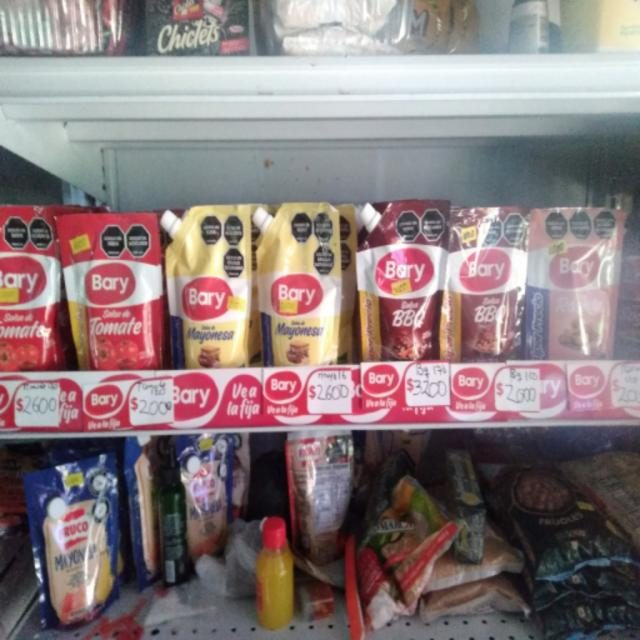BBQ: (362, 197, 451, 360), (451, 204, 524, 360)
Mayonesa: (164, 206, 258, 366), (253, 200, 345, 362)
Precio: (308, 370, 357, 416), (15, 385, 62, 430), (405, 363, 451, 407), (130, 382, 175, 426), (496, 369, 543, 411)
Rosada: (524, 209, 623, 352)
Tomate: (63, 210, 165, 369), (1, 206, 65, 369)
